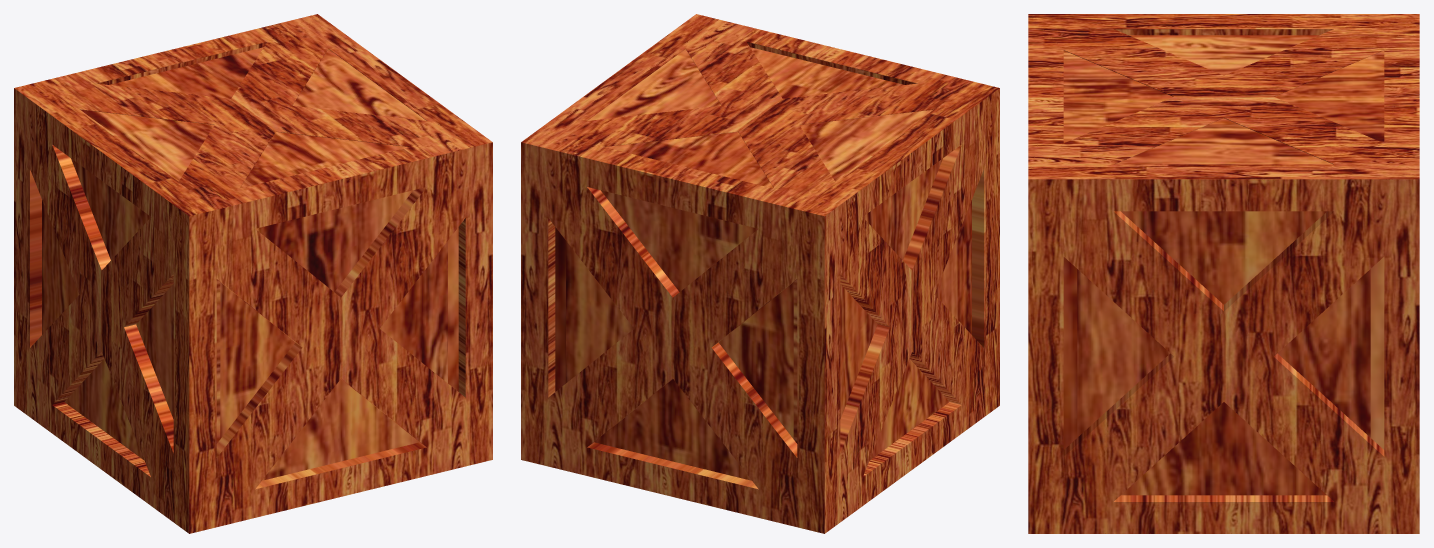
Rendered from standard_crate.fbx.
The picture shows the model from 3 angles, left to right: view 1: azimuth 30°, elevation 25°; view 2: azimuth 150°, elevation 25°; view 3: azimuth 270°, elevation 25°; orthographic projection. The views are drawn at different scales.
Visible parts, largest first — view 1: newStandardCrate; view 2: newStandardCrate; view 3: newStandardCrate.
Part boxes in pixels (left/top/right/bottom): newStandardCrate: left=14, top=14, right=492, bottom=533; newStandardCrate: left=521, top=14, right=999, bottom=533; newStandardCrate: left=1028, top=14, right=1419, bottom=533.
Bounding box in the file's own units: 200 × 200 × 200.
